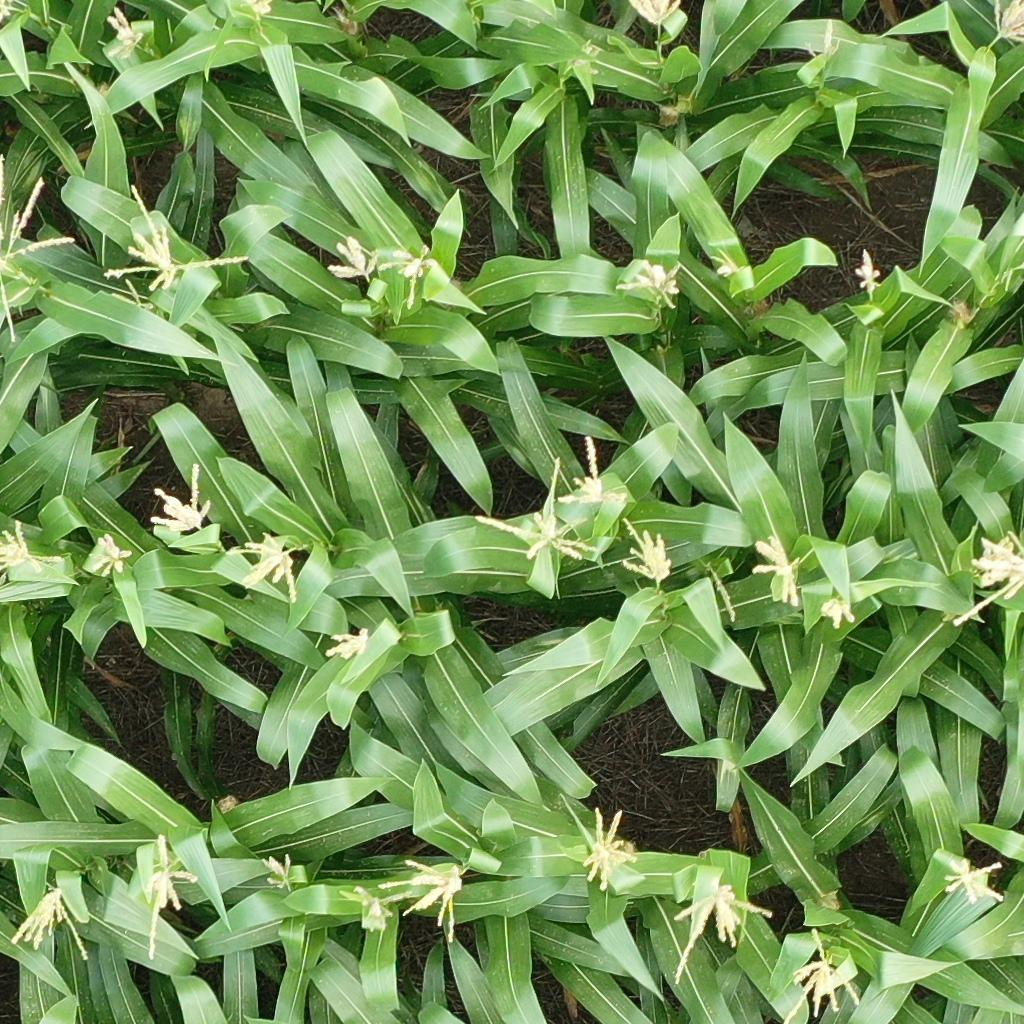Tassel: (102, 184, 248, 293), (1, 154, 77, 345), (474, 452, 599, 566), (667, 882, 778, 984), (375, 858, 469, 945), (782, 924, 862, 1024), (136, 836, 199, 962), (950, 531, 1024, 629), (10, 881, 90, 960), (222, 531, 305, 602), (571, 807, 639, 892), (552, 436, 626, 507), (149, 462, 214, 535), (375, 242, 439, 309), (613, 251, 684, 311), (749, 535, 804, 605), (621, 519, 673, 588), (936, 856, 1008, 905), (1, 519, 64, 573), (352, 884, 413, 932), (99, 3, 149, 60), (325, 236, 383, 283), (89, 531, 135, 579), (325, 624, 370, 662), (853, 248, 888, 294), (628, 1, 685, 27), (992, 1, 1024, 47), (260, 851, 296, 891), (112, 279, 154, 313), (806, 18, 839, 59), (565, 34, 597, 71), (820, 596, 856, 628), (706, 251, 740, 280), (245, 1, 273, 21), (1, 1, 15, 22)
